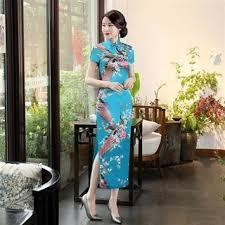dress: (84, 38, 141, 194)
